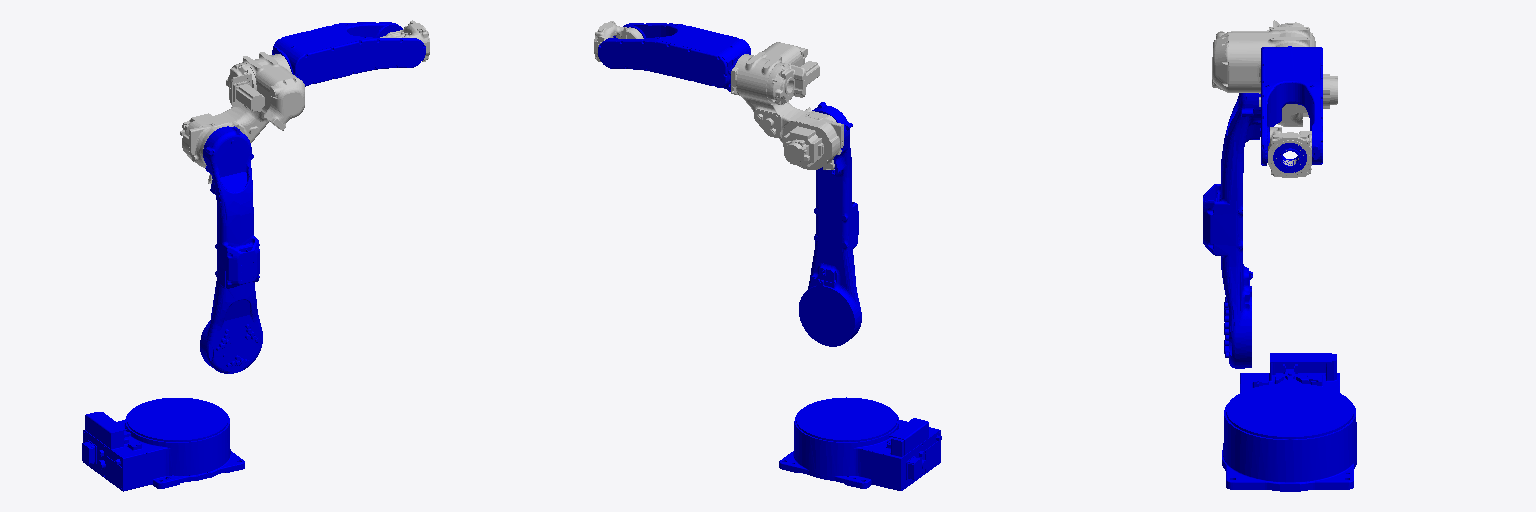
robot.urdf — yaskawa_gp25:
<?xml version="1.0"?>

<robot name="yaskawa_gp25">


  <link name="base_link">
    <visual>
      <geometry>
        <mesh filename="package://yaskawa_gp25_support/meshes/gp25/visual/base_axis.dae" />
      </geometry>
      <material name="blue">
	<color rgba="0 0 1 1"/>
       </material>
    </visual>
    <collision>
      <geometry>
        <mesh filename="package://yaskawa_gp25_support/meshes/gp25/collision/base_axis.stl" />
      </geometry>
      <material name="yellow">
	<color rgba="0 1 1 1"/>
       </material>
    </collision>
  </link>

  <link name="vendor_base_link" />

  <link name="link_s">
    <visual>
      <geometry>
        <mesh filename="package://yaskawa_gp25_support/meshes/gp25/visual/s_axis.dae"/>
      </geometry>
      <material name="silver">
	<color rgba="0.8 0.8 0.8 1"/>
      </material>
    </visual>
    <collision>
      <geometry>
        <mesh filename="package://yaskawa_gp25_support/meshes/gp25/collision/s_axis.stl" />
      </geometry>
      <material name="yellow"/>
    </collision>
  </link>

  <link name="link_l">
    <visual>
      <geometry>
        <mesh filename="package://yaskawa_gp25_support/meshes/gp25/visual/l_axis.dae"/>
      </geometry>
      <material name="blue"/>
    </visual>
    <collision>
      <geometry>
        <mesh filename="package://yaskawa_gp25_support/meshes/gp25/collision/l_axis.stl" />
      </geometry>
      <material name="yellow"/>
    </collision>
  </link>

  <link name="link_u">
    <visual>
      <geometry>
        <mesh filename="package://yaskawa_gp25_support/meshes/gp25/visual/u_axis.dae"/>
      </geometry>
      <material name="silver"/>
    </visual>
    <collision>
      <geometry>
        <mesh filename="package://yaskawa_gp25_support/meshes/gp25/collision/u_axis.stl" />
      </geometry>
      <material name="yellow"/>
    </collision>
  </link>

  <link name="link_r">
    <visual>
      <geometry>
        <mesh filename="package://yaskawa_gp25_support/meshes/gp25/visual/r_axis.dae"/>
      </geometry>
      <material name="blue"/>
    </visual>
    <collision>
      <geometry>
        <mesh filename="package://yaskawa_gp25_support/meshes/gp25/collision/r_axis.stl" />
      </geometry>
      <material name="yellow"/>
    </collision>
  </link>

  <link name="link_b">
    <visual>
      <geometry>
        <mesh filename="package://yaskawa_gp25_support/meshes/gp25/visual/b_axis.dae"/>
      </geometry>
      <material name="silver"/>
    </visual>
    <collision>
      <geometry>
        <mesh filename="package://yaskawa_gp25_support/meshes/gp25/collision/b_axis.stl" />
      </geometry>
      <material name="yellow"/>
    </collision>
  </link>

  <link name="link_t">
    <visual>
      <geometry>
        <mesh filename="package://yaskawa_gp25_support/meshes/gp25/visual/t_axis.dae" />
      </geometry>
      <material name="blue"/>
    </visual>
    <collision>
      <geometry>
        <mesh filename="package://yaskawa_gp25_support/meshes/gp25/collision/t_axis.stl" />
      </geometry>
      <material name="yellow"/>
    </collision>
  </link>

  <link name="vendor_ee" />
<!-- end of link list -->

  <joint name="vendor_base_joint" type="fixed">
    <parent link="base_link"/>
    <child link="vendor_base_link"/>
    <origin xyz="0 0 0.505" />
  </joint>

 <joint name="joint_s" type="revolute">
    <parent link="base_link"/>
    <child link="link_s"/>
    <origin xyz="0 0 0" />
    <axis xyz="0 0 1" />
    <limit effort="100" lower="-3.14" upper= "3.14" velocity="3.44"/>
  </joint>

  <joint name="joint_l" type="revolute">
    <parent link="link_s"/>
    <child link="link_l"/>
    <origin xyz="0.150 0 0.505" />
    <axis xyz="0 1 0" />
    <limit effort="100" lower="-1.833" upper= "2.705" velocity="3.32"/>
  </joint>

  <joint name="joint_u" type="revolute">
    <parent link="link_l"/>
    <child link="link_u"/>
    <origin xyz="0 0 0.76" />
    <axis xyz="0 -1 0" />
    <limit effort="100" lower="-1.50" upper= "2.845" velocity="3.67"/>
  </joint>

  <joint name="joint_r" type="revolute">
    <parent link="link_u"/>
    <child link="link_r"/>
    <origin xyz="0 0 0.2" rpy="0 0 0" />
    <axis xyz="-1 0 0" />
    <limit effort="100" lower="-3.49" upper= "3.49" velocity="7.16"/>
  </joint>

  <joint name="joint_b" type="revolute">
    <parent link="link_r"/>
    <child link="link_b"/>
    <origin xyz="0.795 0 0" rpy="0 0 0" />
    <axis xyz="0 -1 0" />
    <limit effort="100" lower="-2.618" upper= "2.618" velocity="7.16"/>
  </joint>

  <joint name="joint_t" type="revolute">
    <parent link="link_b"/>
    <child link="link_t"/>
    <origin xyz="0.1 0 0" rpy="0 0 0" />
    <axis xyz="-1 0 0" />
    <limit effort="100" lower="-7.941" upper= "7.941" velocity="10.82"/>
  </joint>

<joint name="vendor_ee_joint" type="fixed">
    <parent link="link_t"/>
    <child link="vendor_ee"/>
    <origin rpy="0 -1.57 1.57" />
  </joint>


</robot>

--- Render facts (derived) ---
3 views of the same robot in one strip: view 1: azimuth 30°, elevation 25°; view 2: azimuth 150°, elevation 25°; view 3: azimuth 270°, elevation 25° (orthographic).
Robot: yaskawa_gp25 — 9 links, 8 joints (6 revolute, 2 fixed); root link base_link; default pose: every joint at zero.
Links seen in each view (by area): view 1: base_link, link_l, link_r, link_u, link_b; view 2: base_link, link_l, link_u, link_r, link_b; view 3: base_link, link_l, link_r, link_u, link_b, link_t.
Link boxes in pixels (left/top/right/bottom): base_link: left=82, top=398, right=244, bottom=491; link_l: left=200, top=126, right=262, bottom=373; link_r: left=272, top=22, right=425, bottom=86; link_u: left=180, top=52, right=304, bottom=183; link_b: left=380, top=20, right=429, bottom=61; base_link: left=779, top=397, right=941, bottom=490; link_l: left=799, top=102, right=861, bottom=346; link_u: left=731, top=42, right=843, bottom=169; link_r: left=598, top=23, right=750, bottom=91; link_b: left=594, top=21, right=643, bottom=61; base_link: left=1222, top=353, right=1356, bottom=491; link_l: left=1203, top=93, right=1260, bottom=368; link_r: left=1261, top=46, right=1322, bottom=165; link_u: left=1212, top=20, right=1337, bottom=126; link_b: left=1268, top=127, right=1311, bottom=177; link_t: left=1273, top=143, right=1306, bottom=172.
Size in the robot's own frame: 1.39 by 0.4505 by 1.57 metres.
6 mesh visuals loaded from 7 distinct referenced files (6 Collada DAE); not drawn: 1 (reference not matched to a file when rendering).
